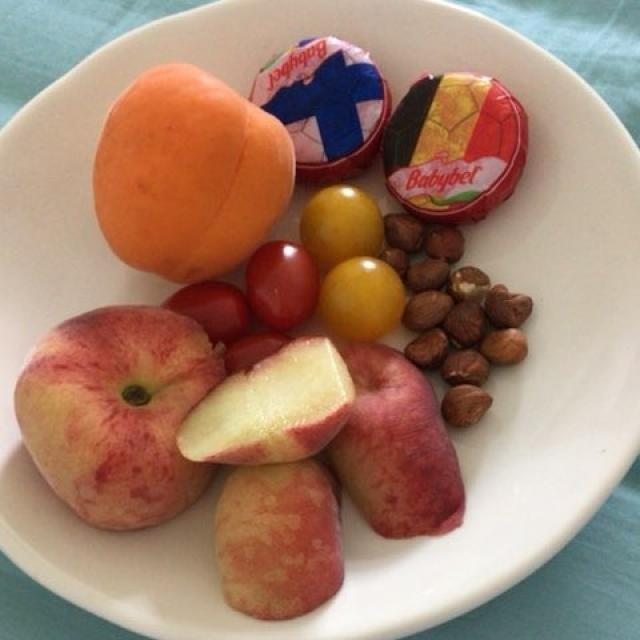apricots: (100, 67, 303, 291)
hazelnut: (383, 206, 532, 430)
peach: (31, 315, 476, 609)
tomato: (185, 179, 399, 364)
